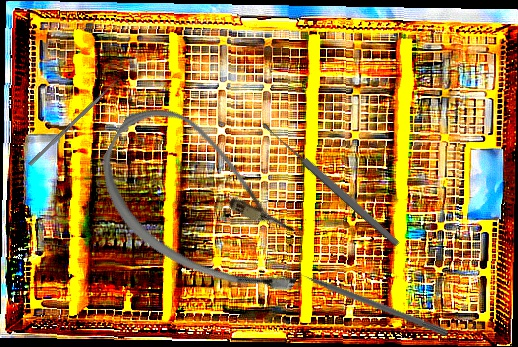Cannula: (75, 90, 341, 319)
Pusher: (285, 263, 450, 338), (27, 73, 125, 167)
Surgical Spoon: (259, 119, 402, 249)
